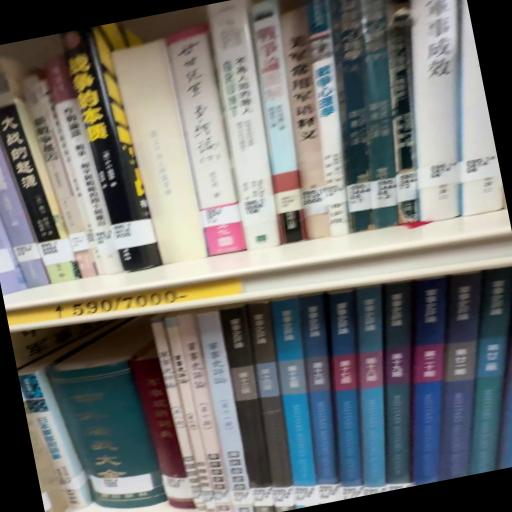backward: (114, 36, 212, 268)
book: (200, 2, 292, 254), (374, 278, 478, 486), (166, 23, 252, 259), (0, 52, 77, 291), (217, 308, 280, 490), (174, 310, 230, 490)
